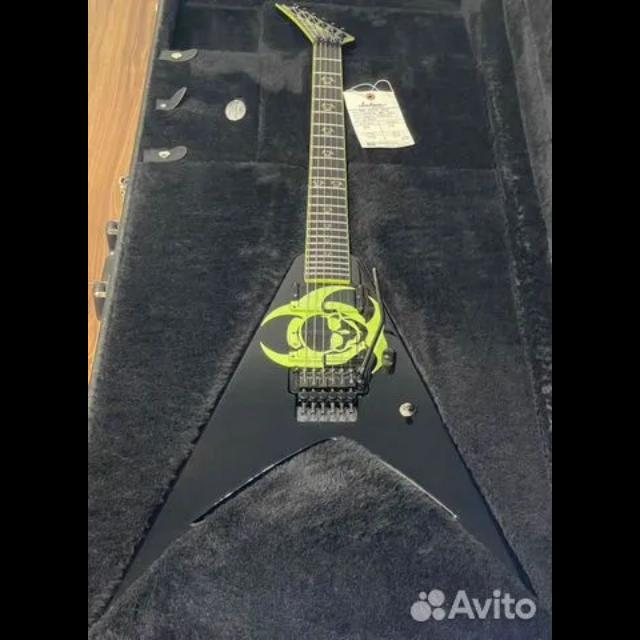Electric-Guitar: (97, 0, 541, 622)
